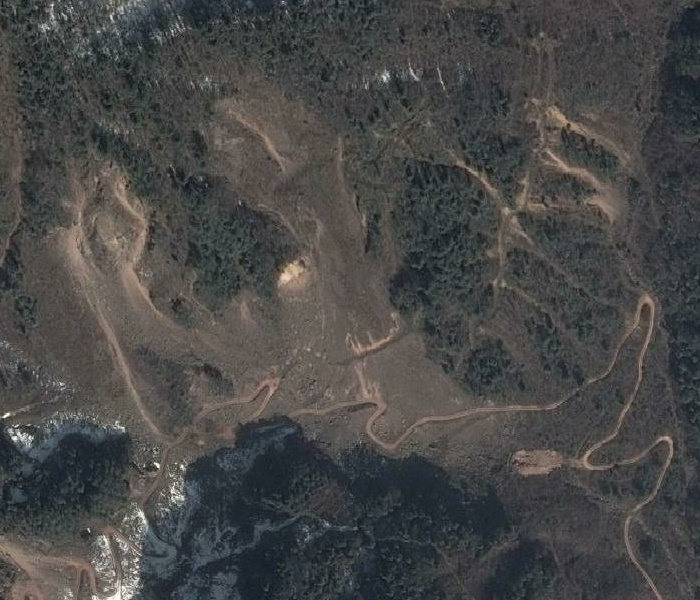slope: (519, 101, 629, 221), (274, 250, 320, 300), (509, 444, 583, 475)
